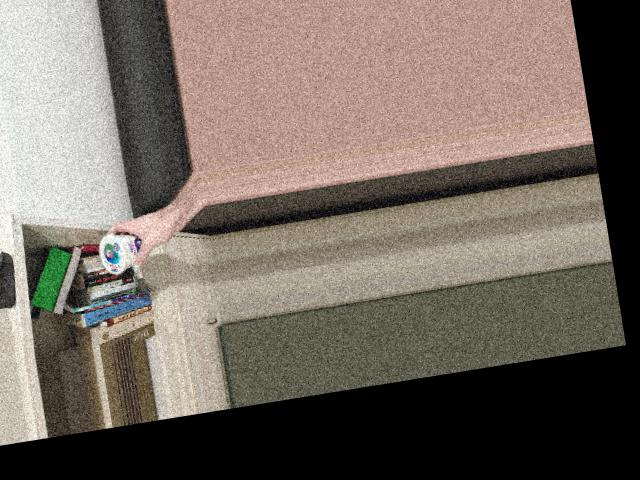cotage: (93, 224, 152, 277)
